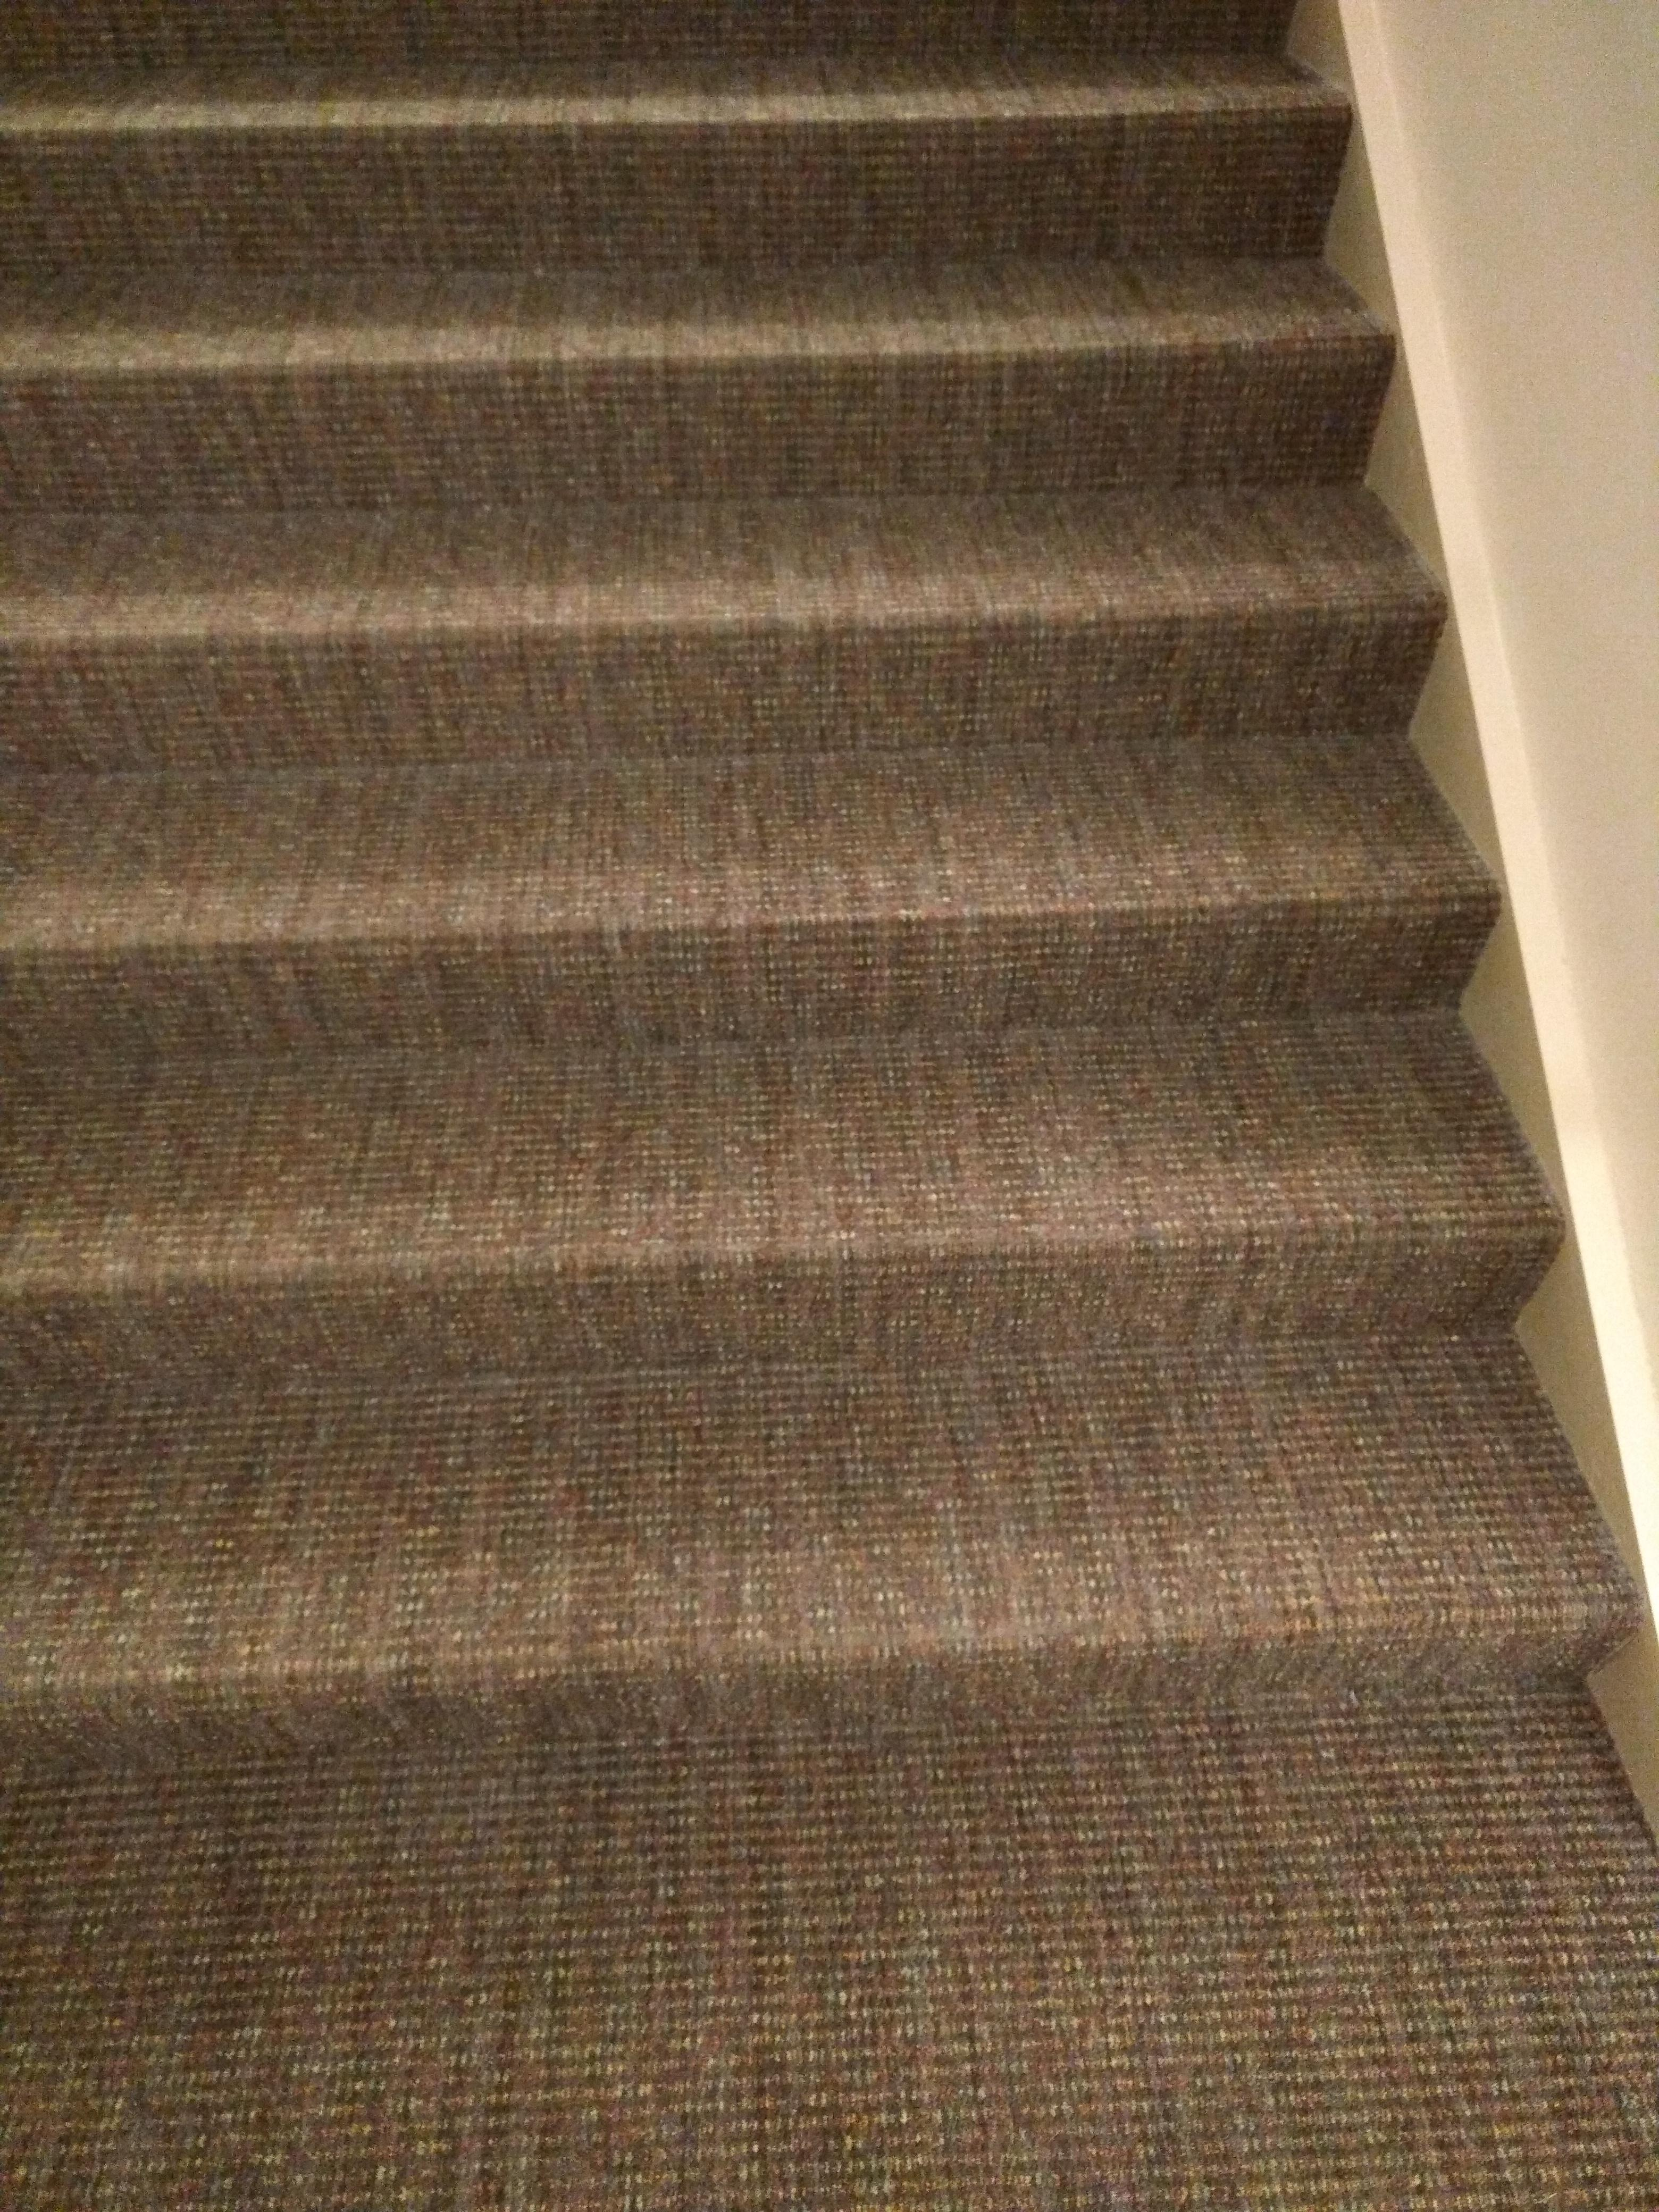stairs_up: (5, 31, 1659, 1815)
